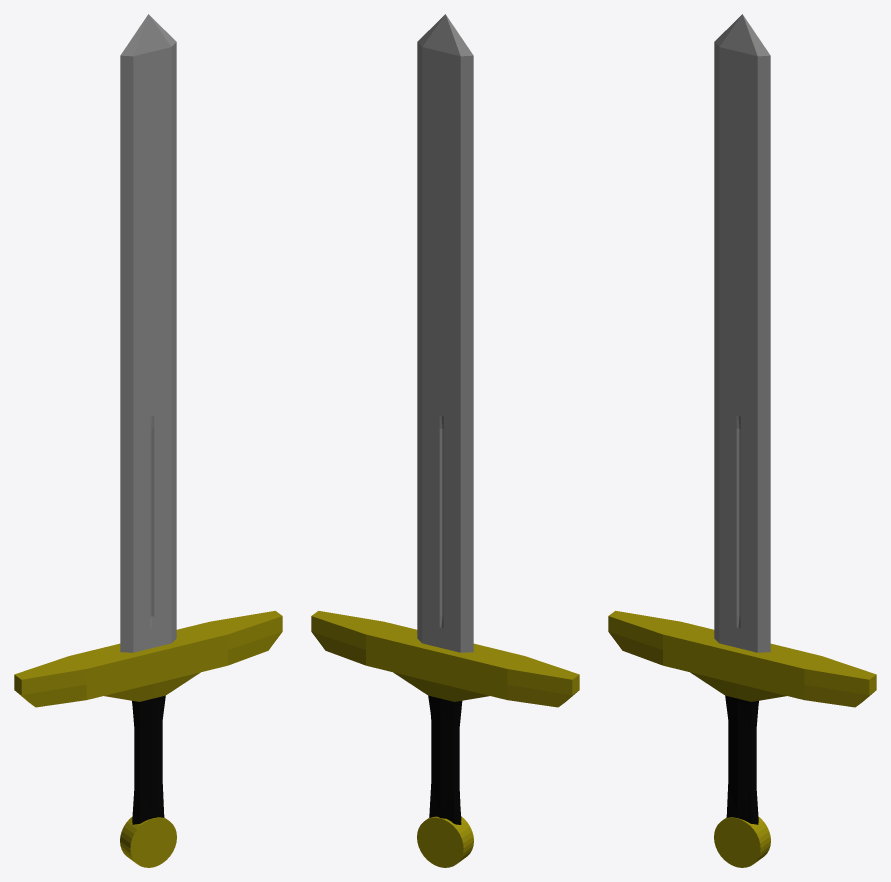
Rendered from simple_sword_2v3.glb.
3 views of the same model, side by side, from view 1: azimuth 30°, elevation 25°; view 2: azimuth 150°, elevation 25°; view 3: azimuth 330°, elevation 25° (orthographic).
Parts seen in each view (by area): view 1: Blade, Guard, Handle, HandleEnd; view 2: Blade, Guard, Handle, HandleEnd; view 3: Blade, Guard, Handle, HandleEnd.
Part boxes in pixels (<box>): Blade: <box>120,14,176,652</box>; Guard: <box>14,610,282,707</box>; Handle: <box>132,695,165,824</box>; HandleEnd: <box>120,816,176,867</box>; Blade: <box>417,14,473,652</box>; Guard: <box>311,610,579,707</box>; Handle: <box>428,695,462,824</box>; HandleEnd: <box>417,816,473,867</box>; Blade: <box>714,14,770,652</box>; Guard: <box>608,610,876,707</box>; Handle: <box>725,695,758,824</box>; HandleEnd: <box>714,816,770,867</box>.
Size of the model in its own units: 0.7859 by 2.44 by 0.0919.
